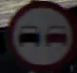No overtake: (7, 11, 70, 58)
